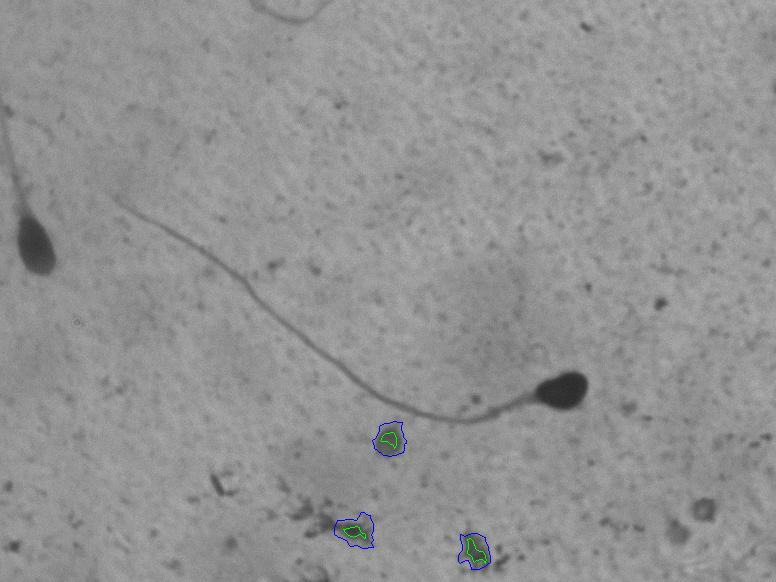Abnormal: (271, 208, 638, 446)
